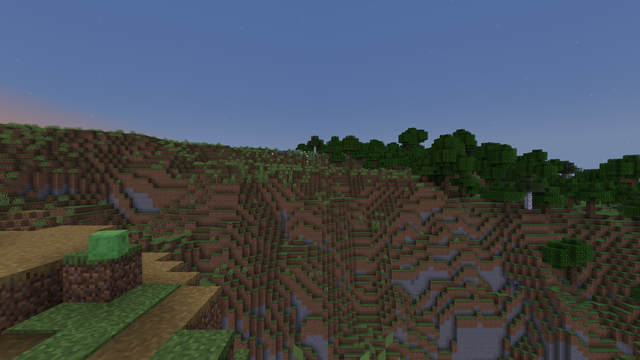slimes: (86, 229, 130, 259)
